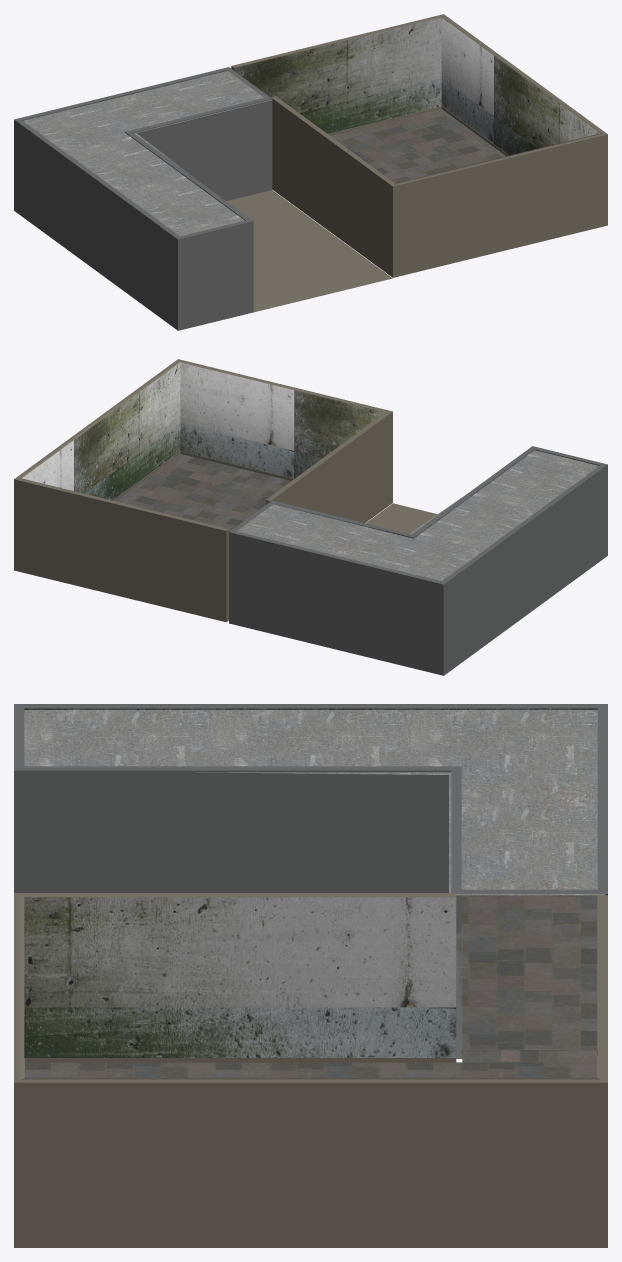
The model's file is corridor.gltf.
3 views of the same model, one above another, from view 1: azimuth 30°, elevation 25°; view 2: azimuth 150°, elevation 25°; view 3: azimuth 270°, elevation 25° (orthographic). The views are drawn at different scales.
Visible parts, largest first — view 1: corridor02, corridor01, plafond; view 2: corridor02, corridor01, plafond; view 3: corridor02, corridor01, plafond.
Boxes of the visible parts, x1,y1,x2,y2 form: corridor02: [231, 14, 607, 277]; corridor01: [14, 67, 392, 330]; plafond: [23, 70, 272, 236]; corridor02: [14, 359, 392, 622]; corridor01: [229, 446, 607, 675]; plafond: [237, 450, 598, 581]; corridor02: [14, 893, 607, 1247]; corridor01: [14, 704, 607, 1062]; plafond: [24, 710, 605, 895].
Bounding box in the file's own units: 123 × 25.13 × 81.5.
3 materials, 3 textured.
